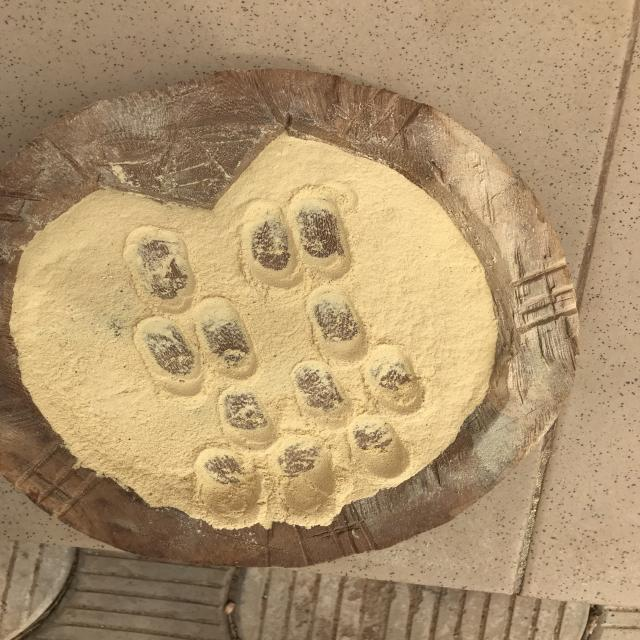double: (117, 298, 273, 388), (190, 439, 343, 526), (238, 183, 354, 291), (286, 348, 428, 422)
single: (121, 222, 205, 318), (301, 285, 374, 367), (344, 412, 416, 484), (211, 384, 282, 451)
